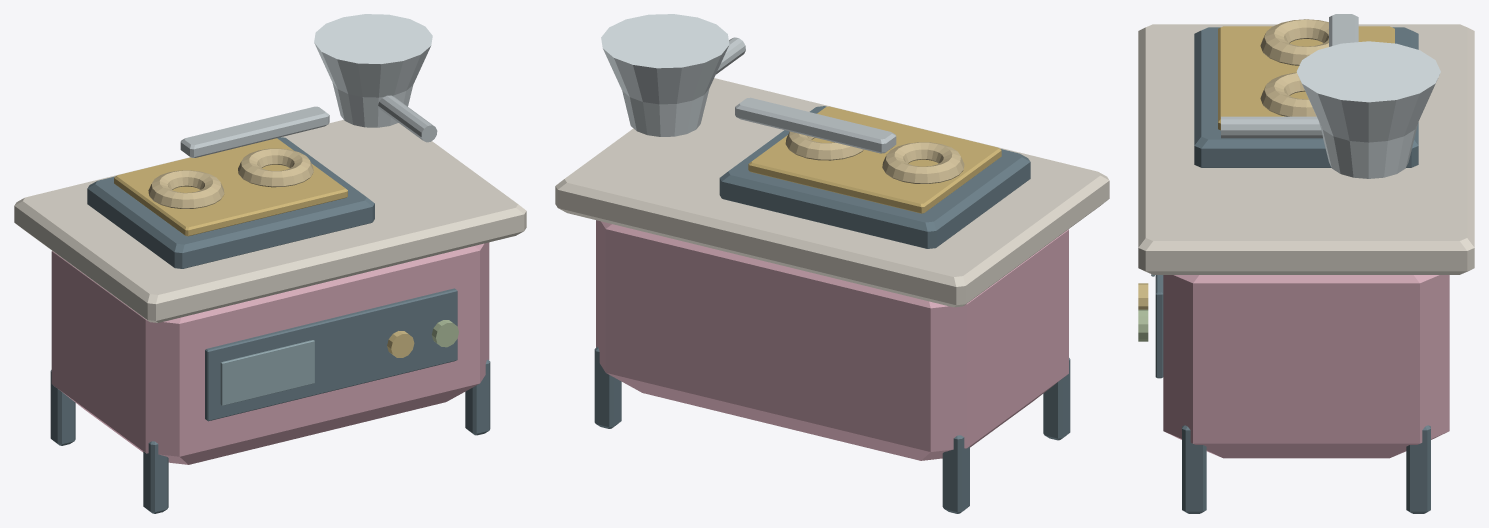
Rendered from donut_fryer.glb.
3 views of the same model, side by side, from view 1: azimuth 30°, elevation 25°; view 2: azimuth 150°, elevation 25°; view 3: azimuth 270°, elevation 25° (orthographic). The views are drawn at different scales.
Parts seen in each view (by area): view 1: donut_fryer, Spinner; view 2: donut_fryer, Spinner; view 3: donut_fryer, Spinner.
Boxes of the visible parts, x1=… form: donut_fryer: x1=14, y1=14, x2=526, y2=513; Spinner: x1=180, y1=106, x2=329, y2=157; donut_fryer: x1=555, y1=14, x2=1109, y2=513; Spinner: x1=735, y1=97, x2=896, y2=153; donut_fryer: x1=1138, y1=19, x2=1474, y2=513; Spinner: x1=1329, y1=14, x2=1358, y2=46.
Bounding box in the file's own units: 2.12 × 1.86 × 1.35.
